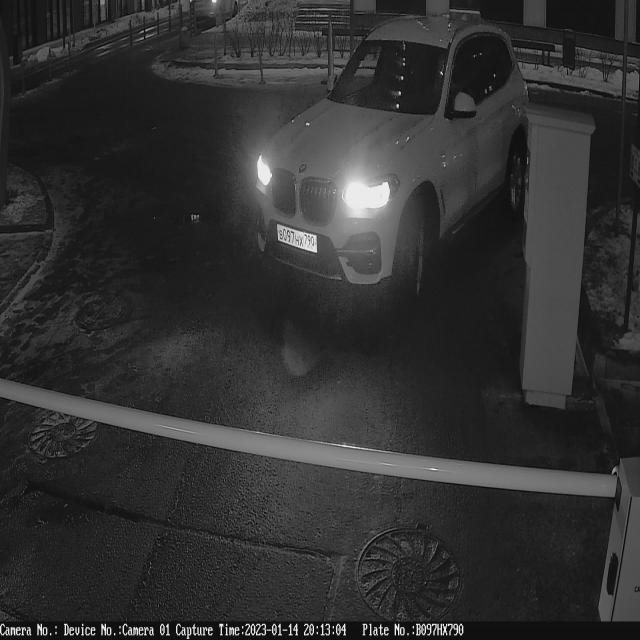car-plate-numbers: (275, 221, 322, 262)
